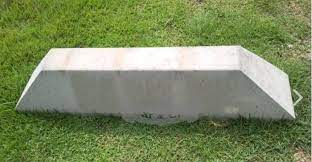obstacle: (23, 44, 297, 129)
